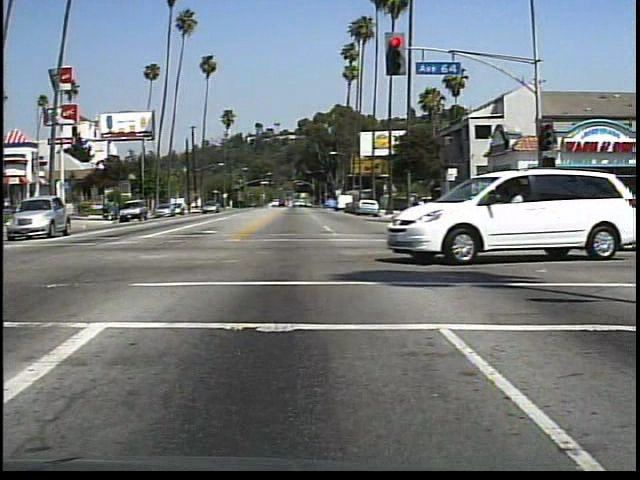person: (538, 186, 564, 236)
